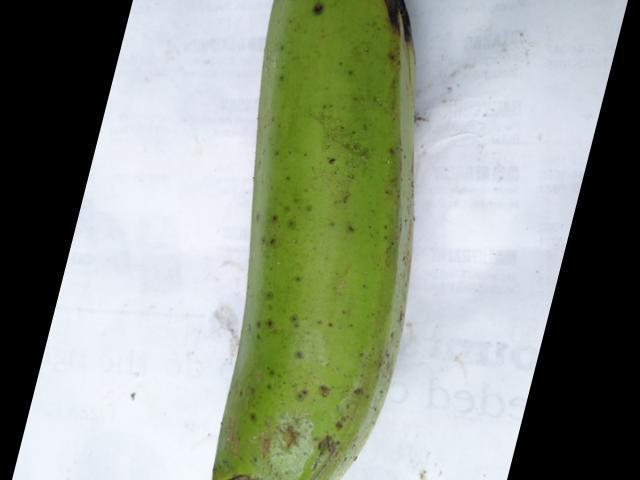unripe: (188, 0, 440, 479)
